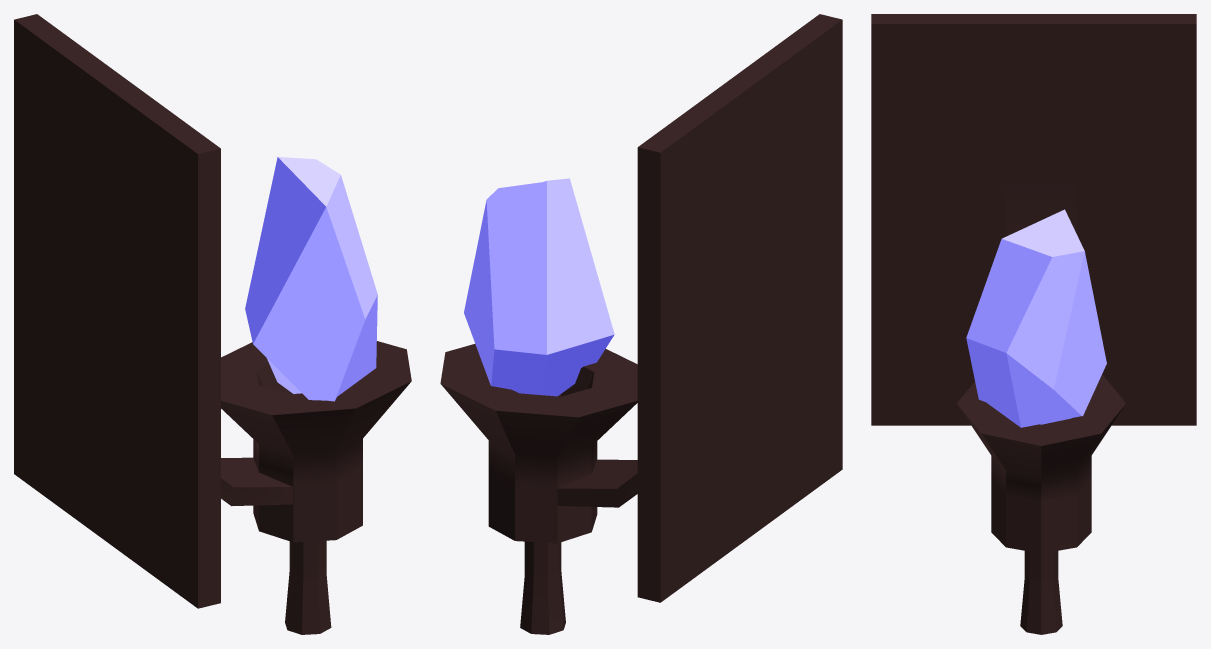
File: lamp.fbx
3 renders of one model, left to right at view 1: azimuth 30°, elevation 25°; view 2: azimuth 150°, elevation 25°; view 3: azimuth 270°, elevation 25°, orthographic. The views are drawn at different scales.
Parts seen in each view (by area): view 1: pCylinder2, pPlatonic1; view 2: pCylinder2, pPlatonic1; view 3: pCylinder2, pPlatonic1.
Part boxes in pixels (x1,y1,x2,y2): pCylinder2: [14, 14, 411, 634]; pPlatonic1: [245, 157, 377, 401]; pCylinder2: [440, 14, 842, 634]; pPlatonic1: [464, 178, 614, 396]; pCylinder2: [871, 14, 1196, 634]; pPlatonic1: [966, 209, 1106, 427].
Size of the model in its own units: 0.7118 by 1.32 by 0.7433.
